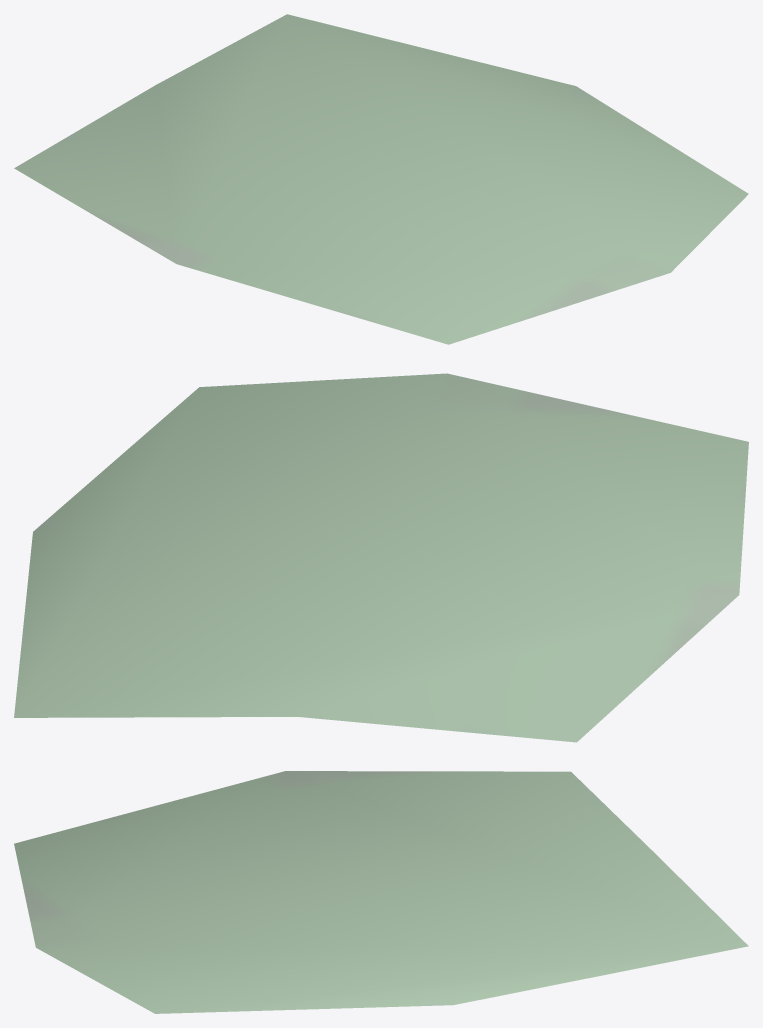
File: TROLLHOLE02_HOLECAP09.fbx
3 renders of one model, top to bottom at view 1: azimuth 30°, elevation 25°; view 2: azimuth 150°, elevation 25°; view 3: azimuth 270°, elevation 25°, orthographic. The views are drawn at different scales.
Visible parts, largest first — view 1: TROLLHOLE02_HOLECAP09; view 2: TROLLHOLE02_HOLECAP09; view 3: TROLLHOLE02_HOLECAP09.
Part boxes in pixels (bbox=[...]): TROLLHOLE02_HOLECAP09: bbox=[14, 14, 748, 344]; TROLLHOLE02_HOLECAP09: bbox=[14, 373, 748, 742]; TROLLHOLE02_HOLECAP09: bbox=[14, 771, 748, 1013].
Bounding box in the file's own units: 23165 × 444 × 29194.
Materials: 1 (1 with a texture image).
